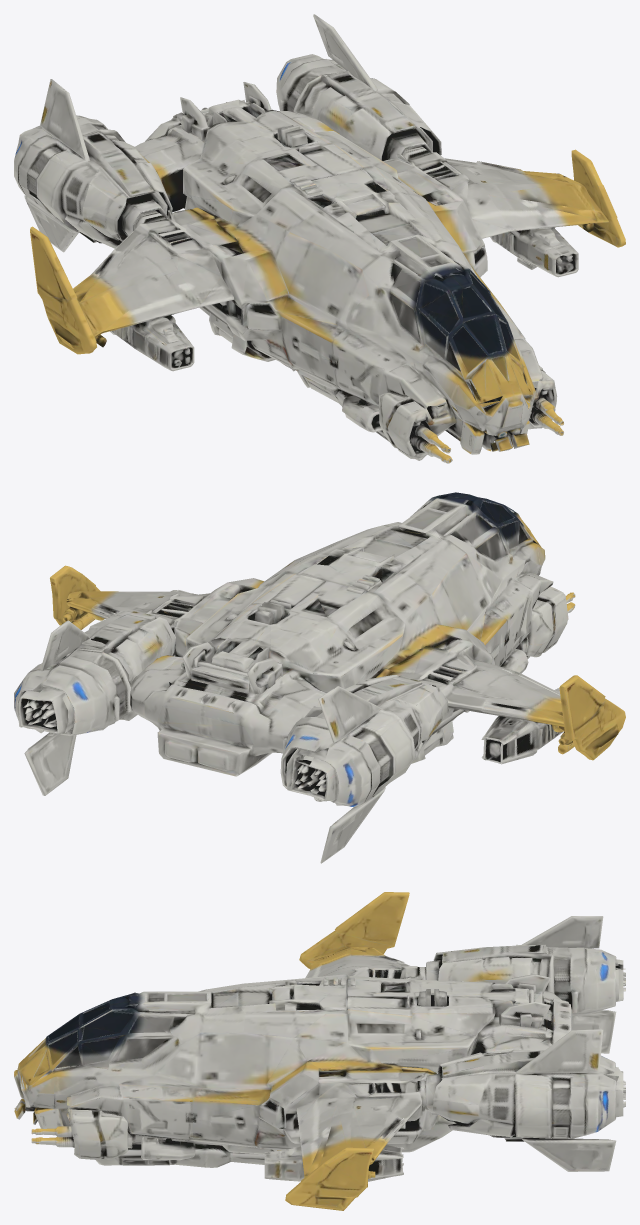
Rendered from europa-starter.glb.
3 views of the same model, one above another, from view 1: azimuth 30°, elevation 25°; view 2: azimuth 150°, elevation 25°; view 3: azimuth 270°, elevation 25° (orthographic). The views are drawn at different scales.
Parts seen in each view (by area): view 1: Hull_LOD0; view 2: Hull_LOD0; view 3: Hull_LOD0.
Part boxes in pixels (x1,y1,x2,y2): Hull_LOD0: (14, 14, 625, 463); Hull_LOD0: (14, 492, 625, 863); Hull_LOD0: (14, 892, 625, 1210).
Size of the model in its own units: 7.41 by 2.61 by 8.33.
Materials: 1 (1 with a texture image).
